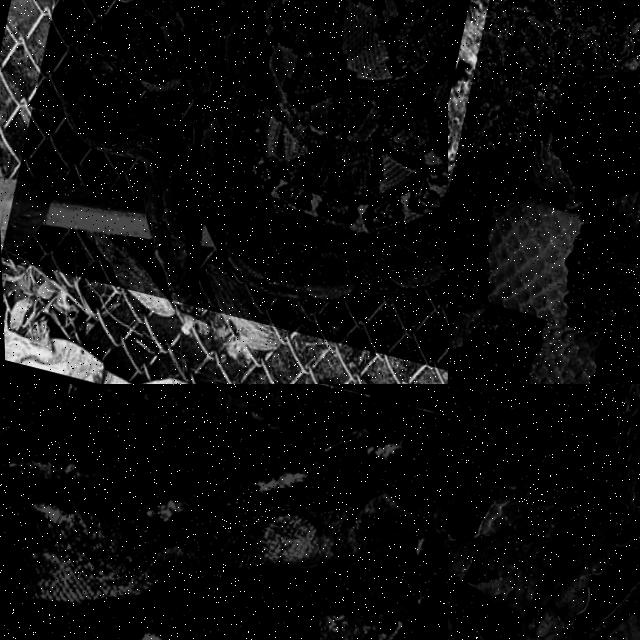Bungarus fasciatus: (448, 76, 639, 383)
Calloselasma rhodostoma: (448, 384, 639, 639)
Malayopython reticulatus: (61, 0, 447, 301), (0, 406, 447, 639)
